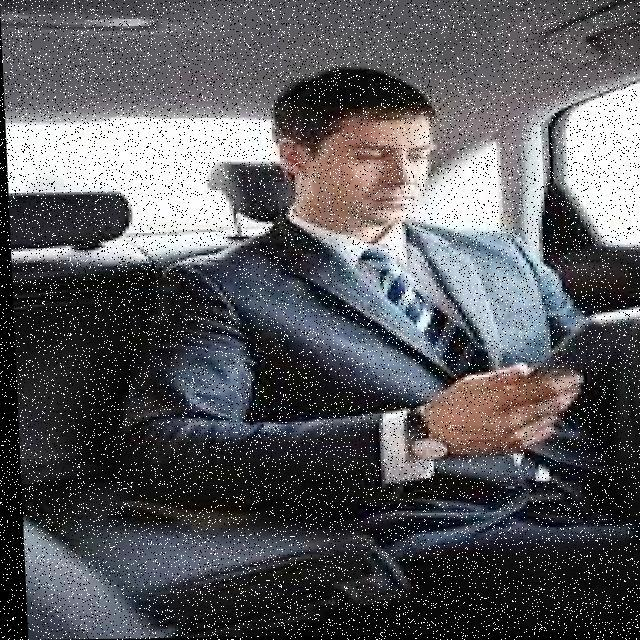noSeatbelt: (188, 207, 582, 486)
